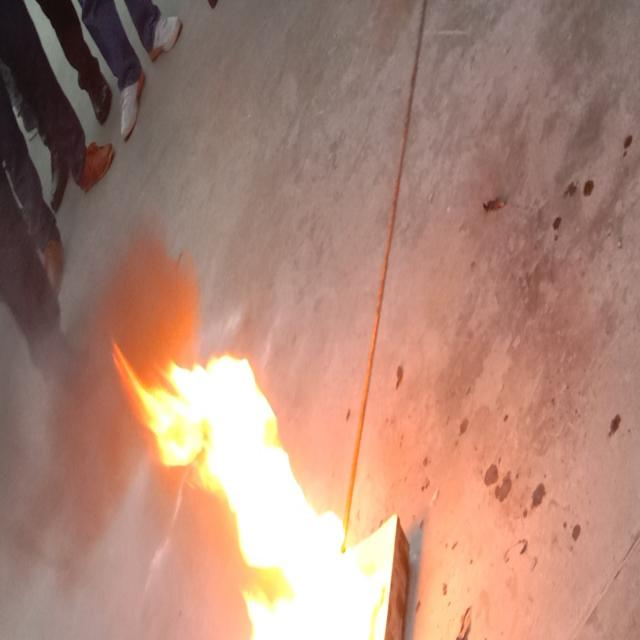Fire: (112, 347, 398, 640)
